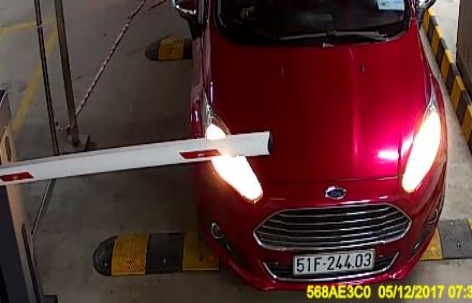plate: (289, 247, 375, 275)
